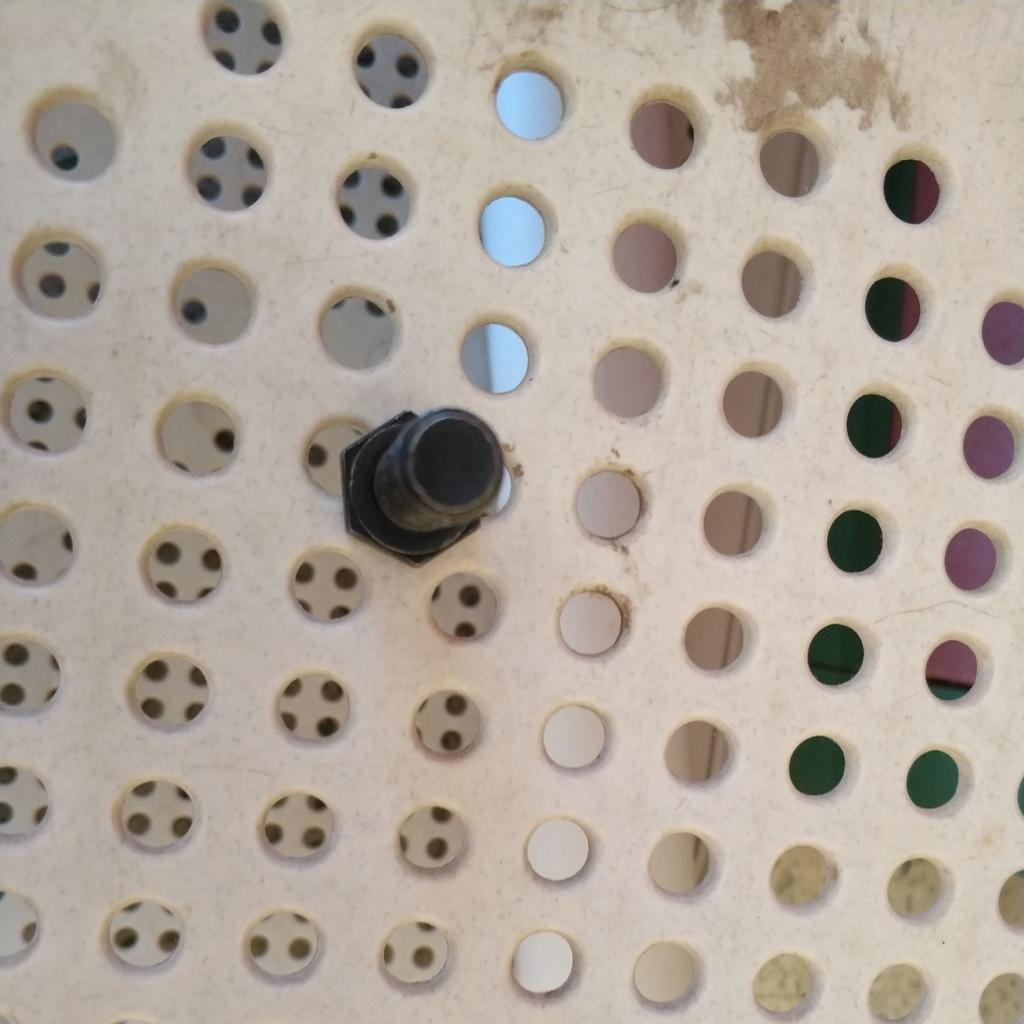screwtype2black: (329, 395, 510, 575)
